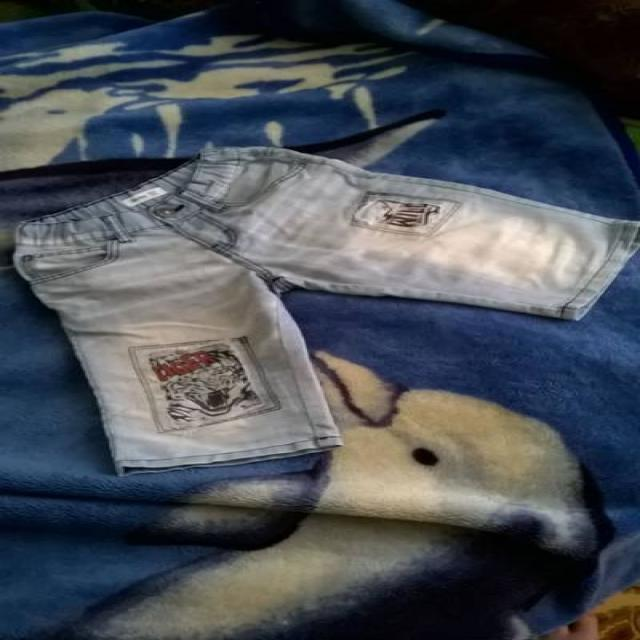Clothes -Biodegradable-: (1, 143, 640, 476)
